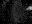person: (24, 6, 31, 10)
